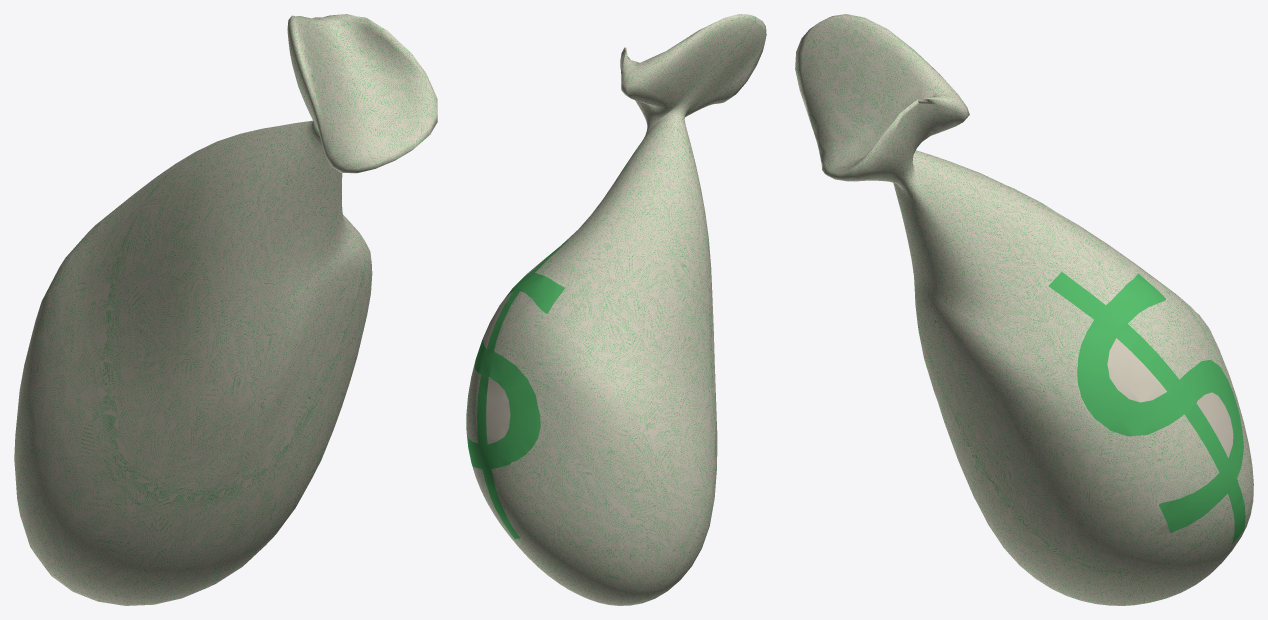
3 views of the same model, side by side, from view 1: azimuth 30°, elevation 25°; view 2: azimuth 150°, elevation 25°; view 3: azimuth 270°, elevation 25° (orthographic). The views are drawn at different scales.
Parts seen in each view (by area): view 1: group_0; view 2: group_0 (×3); view 3: group_0 (×4).
Boxes of the visible parts, x1=… form: group_0: x1=14, y1=14, x2=437, y2=605; group_0 (×3): x1=466, y1=14, x2=766, y2=605; group_0 (×4): x1=795, y1=14, x2=1253, y2=605.
Bounding box in the file's own units: 10.63 × 16.09 × 22.57.
